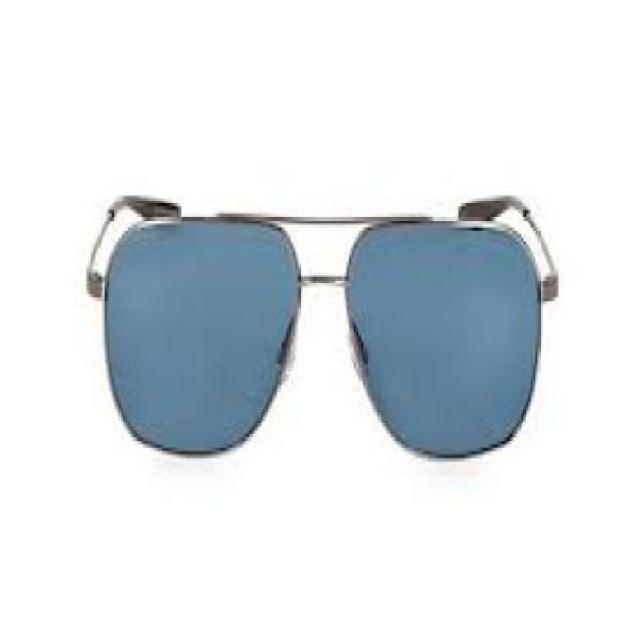gozluk: (86, 172, 562, 479)
